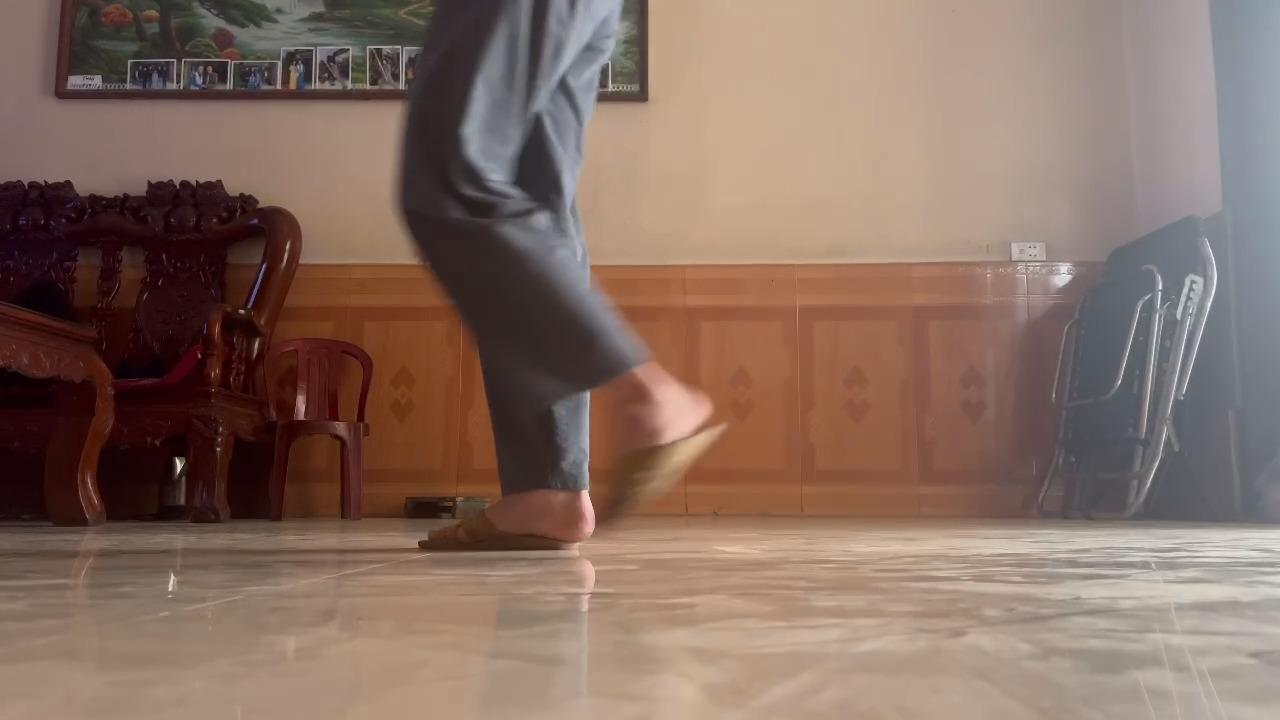no-boot: (598, 383, 736, 533), (413, 492, 597, 559)
